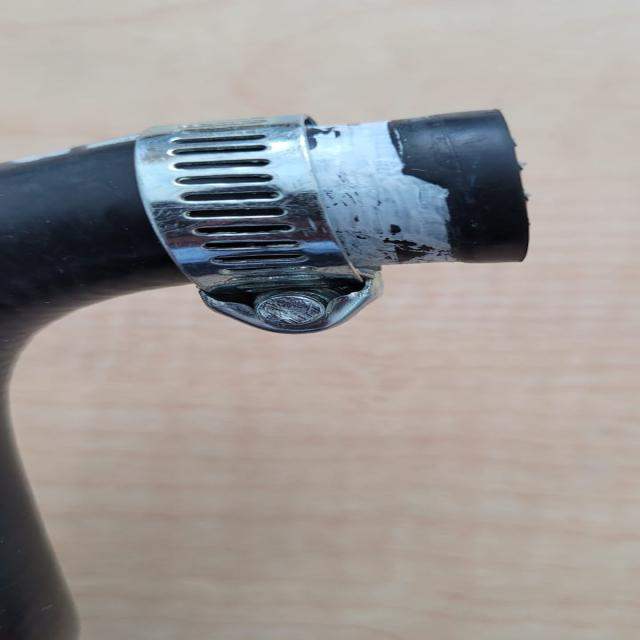clamp: (131, 122, 369, 336)
pipe: (319, 115, 539, 266)
